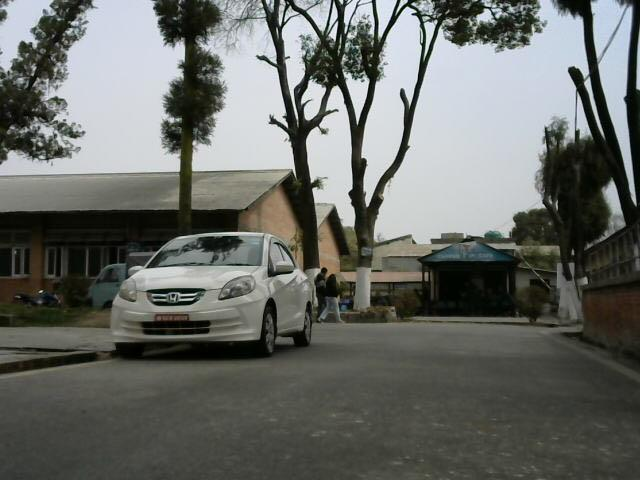Car: (98, 218, 319, 357)
Road: (28, 324, 640, 480)
Tree: (246, 0, 640, 155), (1, 1, 91, 181), (148, 0, 225, 200)
